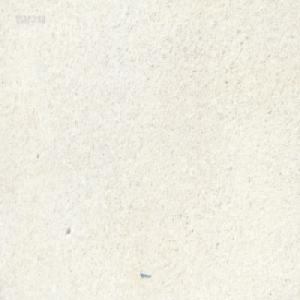Nail: (140, 270, 150, 278)
